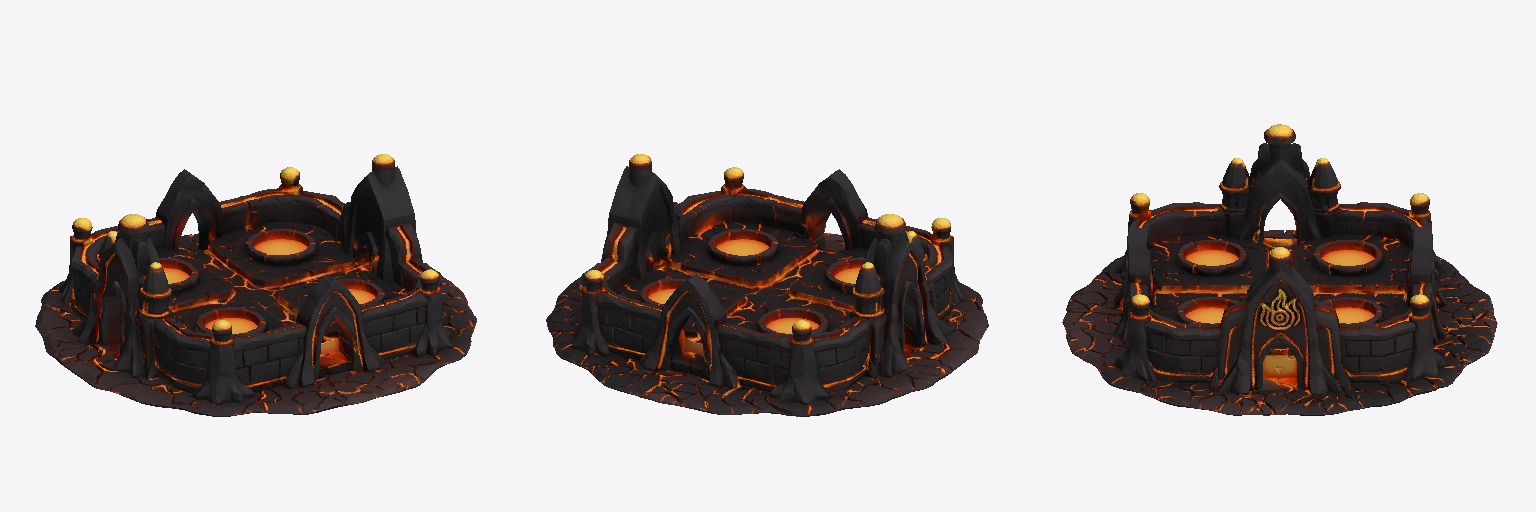
3 renders of one model, left to right at view 1: azimuth 30°, elevation 25°; view 2: azimuth 150°, elevation 25°; view 3: azimuth 270°, elevation 25°, orthographic.
Parts seen in each view (by area): view 1: tripo_node_00d28eea-d5f8-4428-999f-37fa6ef7dcc5; view 2: tripo_node_00d28eea-d5f8-4428-999f-37fa6ef7dcc5; view 3: tripo_node_00d28eea-d5f8-4428-999f-37fa6ef7dcc5.
Part boxes in pixels (bbox=[...]): tripo_node_00d28eea-d5f8-4428-999f-37fa6ef7dcc5: bbox=[35, 154, 476, 416]; tripo_node_00d28eea-d5f8-4428-999f-37fa6ef7dcc5: bbox=[546, 154, 988, 416]; tripo_node_00d28eea-d5f8-4428-999f-37fa6ef7dcc5: bbox=[1062, 124, 1497, 415].
Size of the model in its own units: 0.9978 by 0.3538 by 1.
1 materials, 1 textured.